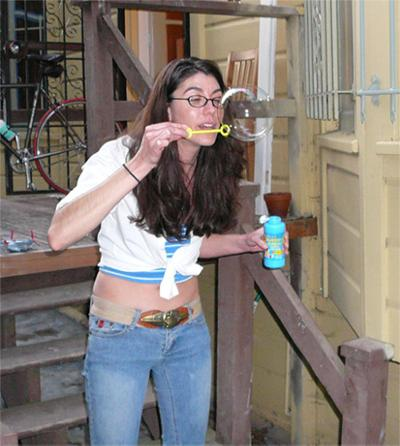person: (46, 56, 288, 446)
